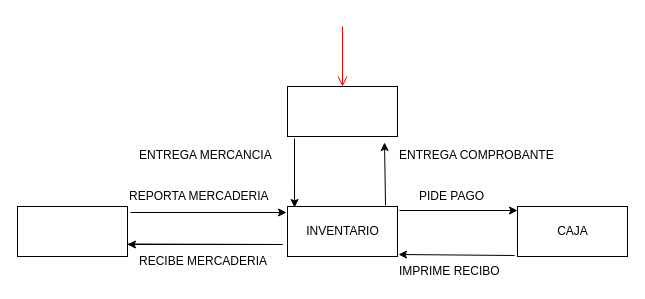
This 645x299 diagram has some shape labels left out. The shapes that lost their labels are listed below. From the top down, each one's centre as x and y in pixels, then its label:
At (x=342, y=111): "COMPRAS".
At (x=72, y=231): "ALMACEN".
